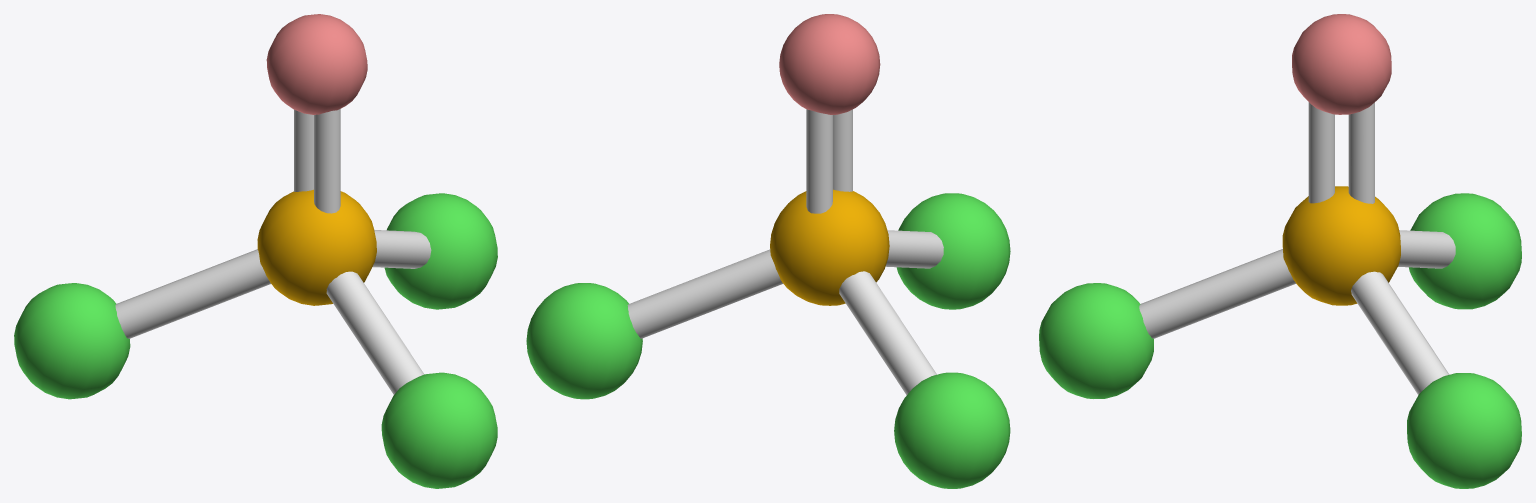
File: POCl3.fbx
3 renders of one model, left to right at view 1: azimuth 30°, elevation 25°; view 2: azimuth 150°, elevation 25°; view 3: azimuth 270°, elevation 25°, orthographic.
Parts seen in each view (by area): view 1: POCl3; view 2: POCl3; view 3: POCl3.
Part boxes in pixels (box(x1,y1,x2,y2)): POCl3: box(14, 14, 497, 488); POCl3: box(526, 14, 1010, 488); POCl3: box(1039, 14, 1521, 488).
Bounding box in the file's own units: 4.04 × 3.1 × 3.62.
